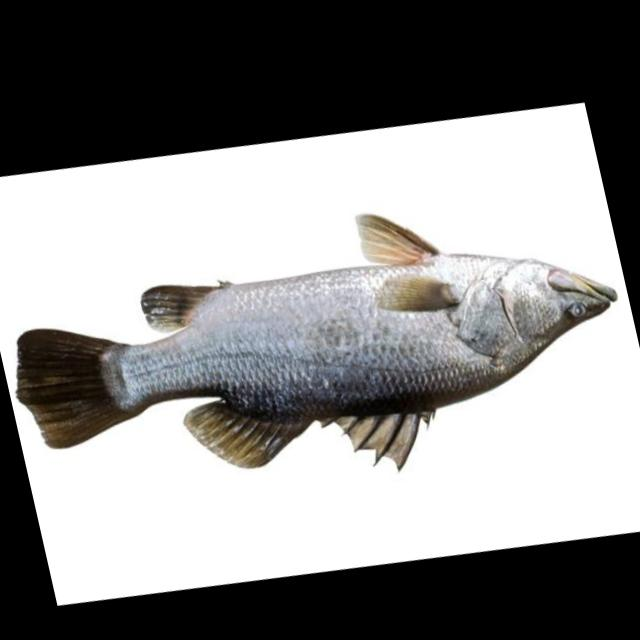Seabass: (0, 120, 640, 577)
